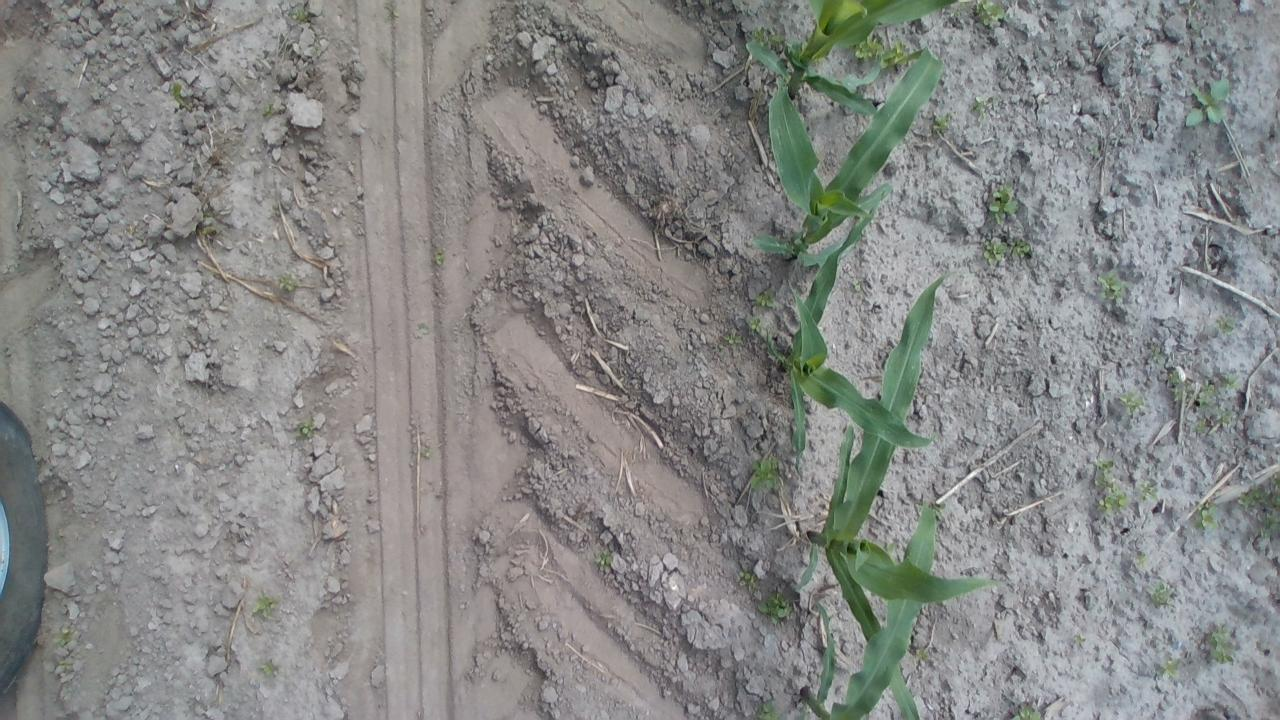Maize: (796, 269, 956, 720), (763, 210, 939, 482), (750, 47, 946, 270), (798, 505, 938, 720), (746, 0, 958, 119)
Weeds: (1186, 374, 1242, 433), (1237, 469, 1280, 540), (855, 30, 914, 74), (1184, 78, 1232, 129), (1094, 456, 1130, 516), (984, 181, 1020, 226), (982, 238, 1030, 268), (1094, 270, 1132, 305), (758, 592, 794, 626), (748, 453, 781, 490), (1204, 626, 1234, 664), (49, 622, 83, 652), (974, 0, 1009, 29), (248, 591, 282, 620), (749, 24, 785, 50), (1194, 498, 1224, 529), (1148, 580, 1176, 609), (1119, 390, 1146, 416), (1152, 656, 1181, 680), (249, 660, 278, 684), (717, 327, 744, 352), (749, 284, 777, 308), (1138, 479, 1162, 505), (278, 270, 302, 294), (1166, 370, 1184, 401), (196, 202, 223, 221), (973, 95, 992, 122), (930, 110, 951, 134), (754, 703, 782, 720), (737, 570, 758, 592), (294, 418, 316, 439), (1214, 314, 1234, 336), (743, 313, 763, 334), (47, 658, 76, 672), (1010, 707, 1041, 720), (169, 81, 185, 106), (382, 2, 400, 24), (288, 6, 310, 24), (1149, 344, 1166, 366), (594, 550, 614, 568), (930, 502, 946, 521), (954, 0, 971, 16), (1070, 633, 1088, 645), (262, 102, 274, 120), (416, 322, 431, 336), (430, 254, 446, 267), (1188, 18, 1201, 34), (848, 278, 862, 291), (1135, 552, 1146, 568), (915, 648, 930, 658), (420, 447, 432, 458), (312, 46, 321, 55), (1232, 2, 1240, 12)
